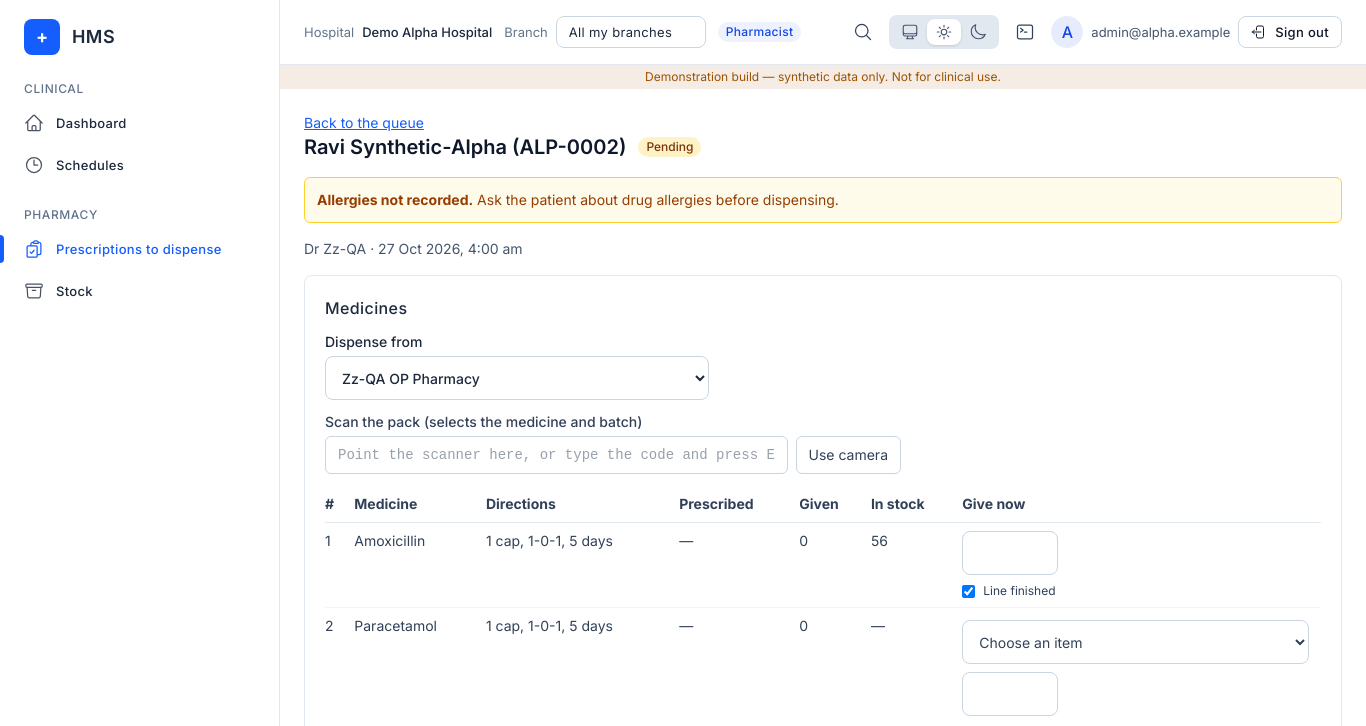
Test: Pharmacy dispensing › shows the server refusal for a stock-out
Expected: the dropdown with test id "dispense-store" shows "Zz-QA OP Pharmacy", x1=325 y1=356 x2=709 y2=400
Type "57" into the field named "Quantity for line 1".
click(1010, 553); type("57")  # box x1=962 y1=531 x2=1058 y2=575
(page scrolled)
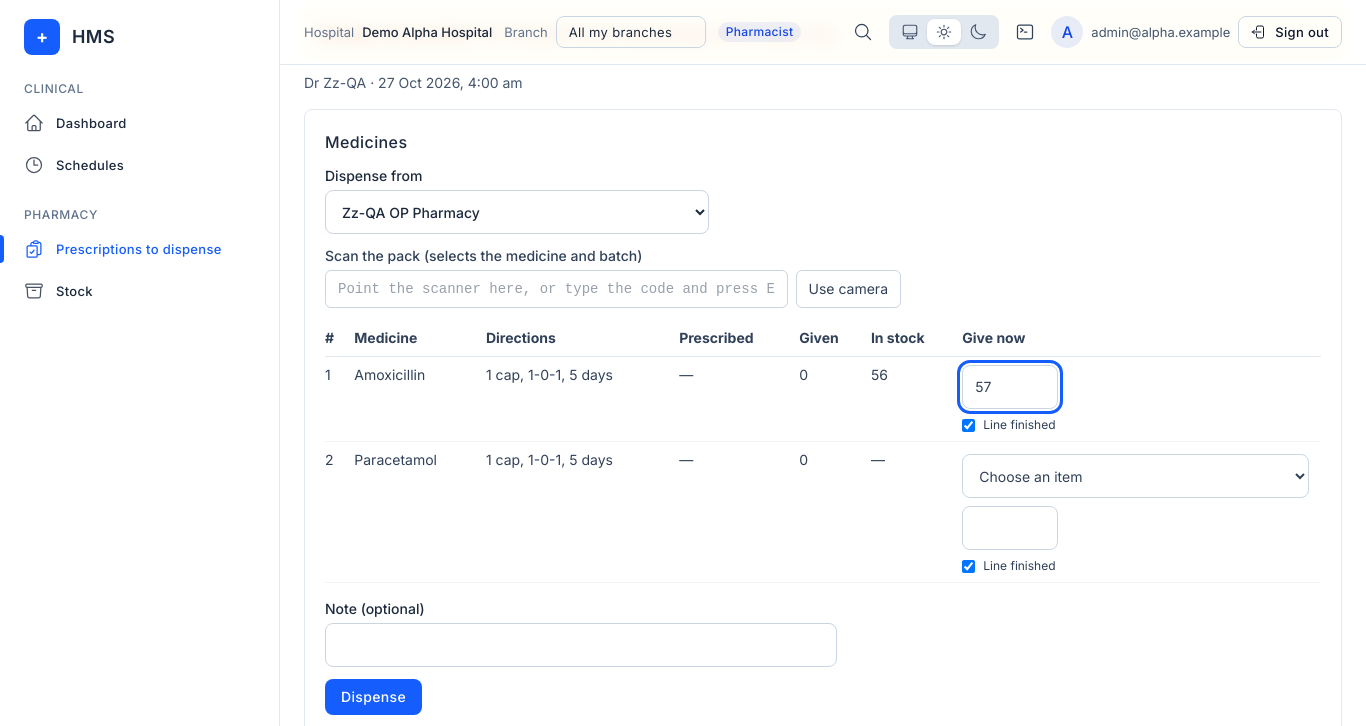
Click the button with test id "dispense-submit".
click(374, 697)  # box x1=325 y1=679 x2=422 y2=715
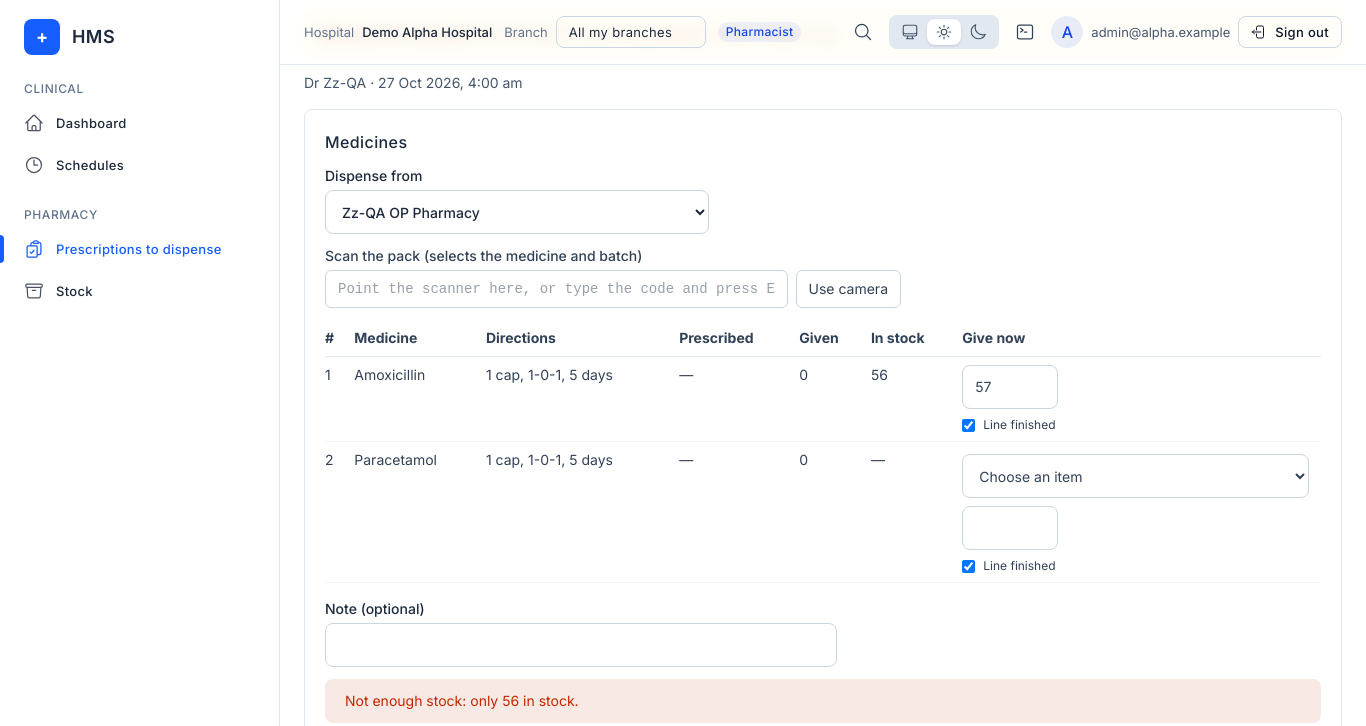
Result: the text "Not enough stock: only 56 in stock." is shown at x1=325 y1=679 x2=1321 y2=723
